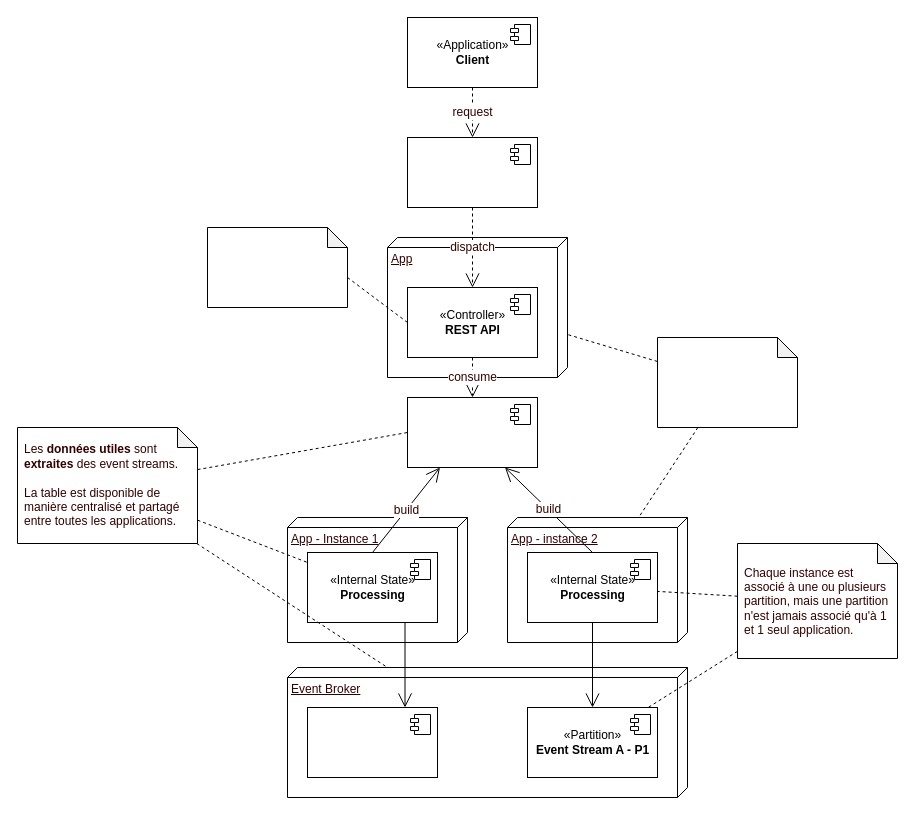
This 915x815 diagram has some shape labels left out. Each missing label, with the centre of its shape:
"La partie Query du pattern CQRS" goes at point 277,267.
"Modélise un instance de l'application ayant en charge le traitement." goes at point 727,382.
"«External State» Materialized Table" goes at point 472,432.
"«Partition» Event Stream A - P0" goes at point 372,742.
"«Réseau» Load Balancer" goes at point 472,172.
